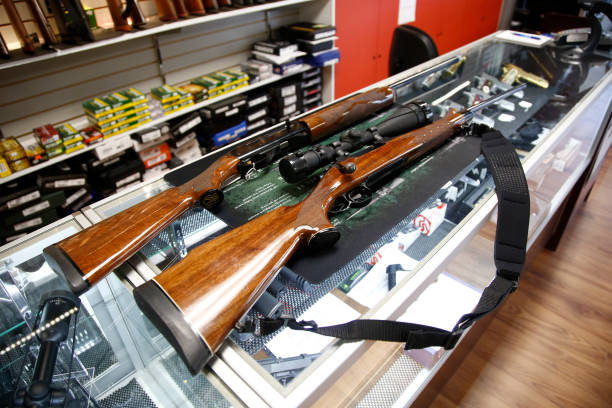shotgun: (147, 78, 523, 373), (6, 75, 414, 287)
